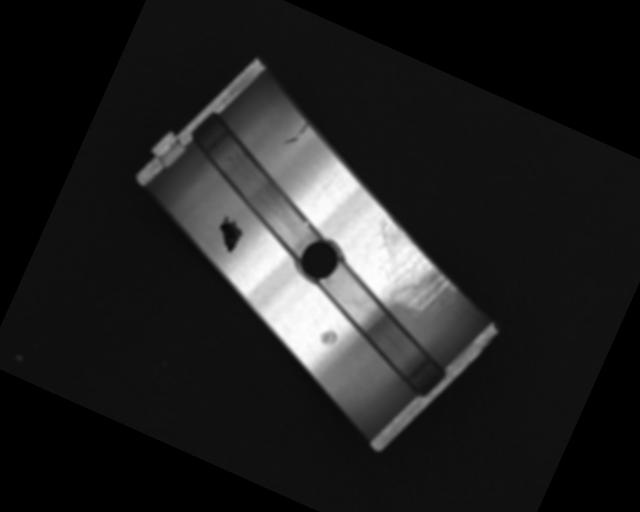blot: (210, 212, 248, 255)
bruise: (317, 325, 340, 348)
gap: (162, 111, 344, 264), (292, 256, 470, 402)
hole: (289, 228, 347, 289)
nick: (314, 168, 339, 205), (283, 115, 310, 149)
scratch: (350, 211, 476, 325)
